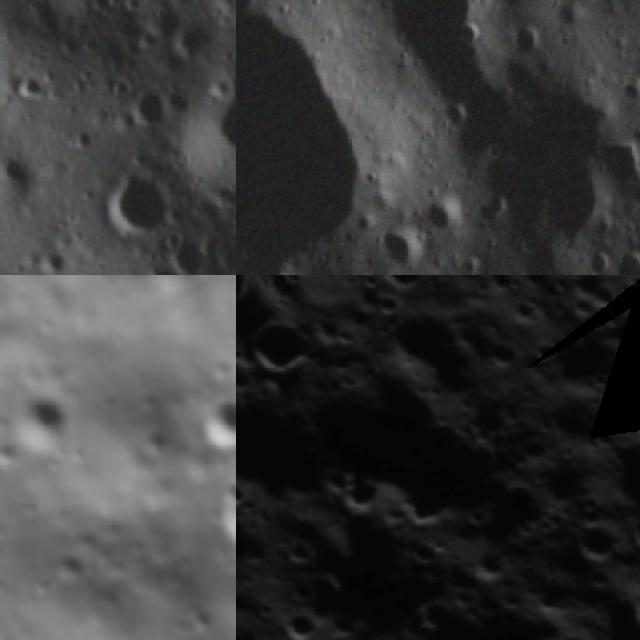crater: (236, 0, 384, 275), (446, 49, 602, 242), (364, 284, 497, 418), (236, 296, 332, 392), (349, 0, 504, 55), (324, 455, 402, 532), (3, 386, 82, 462), (100, 165, 174, 240), (557, 503, 632, 577), (195, 461, 236, 567), (199, 61, 236, 172), (457, 387, 518, 448), (592, 126, 640, 192), (271, 523, 327, 578), (189, 394, 236, 457), (272, 597, 333, 640), (375, 222, 424, 275), (120, 84, 172, 132), (165, 233, 218, 275), (363, 275, 440, 303), (541, 611, 612, 640), (615, 562, 640, 640), (501, 12, 544, 56), (134, 427, 176, 467), (236, 462, 264, 519), (426, 192, 464, 233), (30, 241, 72, 275), (12, 66, 45, 108), (617, 407, 640, 465), (621, 498, 640, 561), (583, 241, 616, 275), (611, 239, 640, 275), (549, 0, 583, 30), (136, 261, 193, 275), (495, 0, 524, 9)
